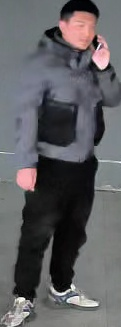phone: (69, 15, 120, 110)
